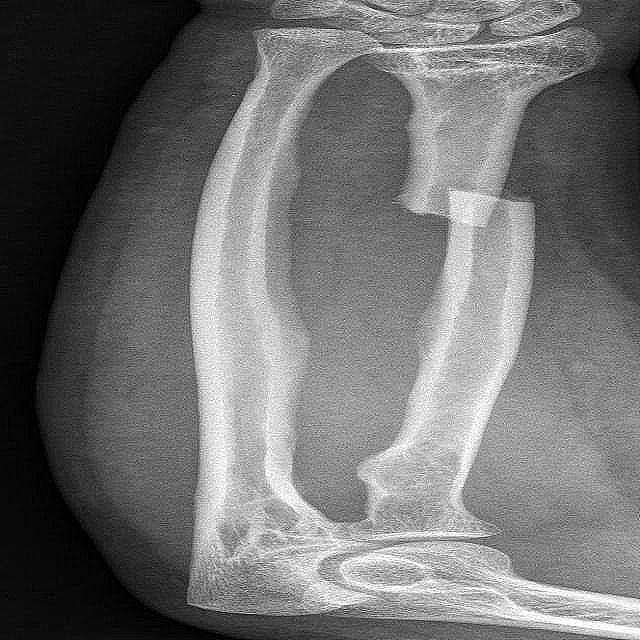bone: (380, 174, 550, 244)
